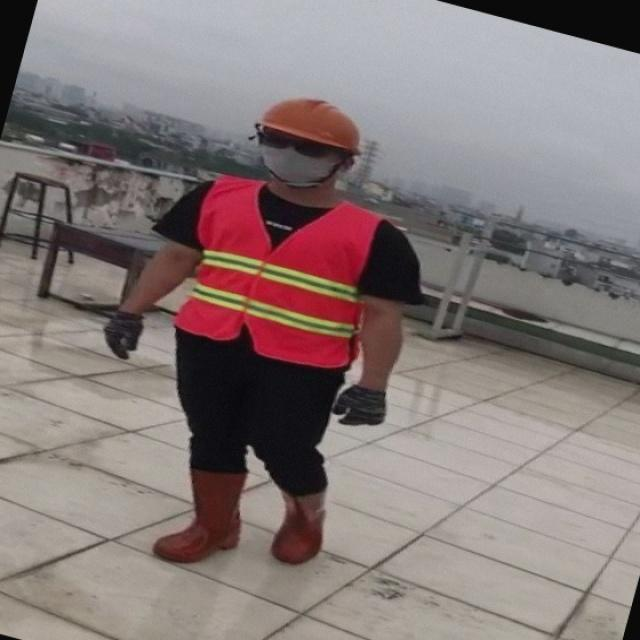helmet: (258, 100, 368, 157)
safety_vest: (160, 168, 383, 372)
